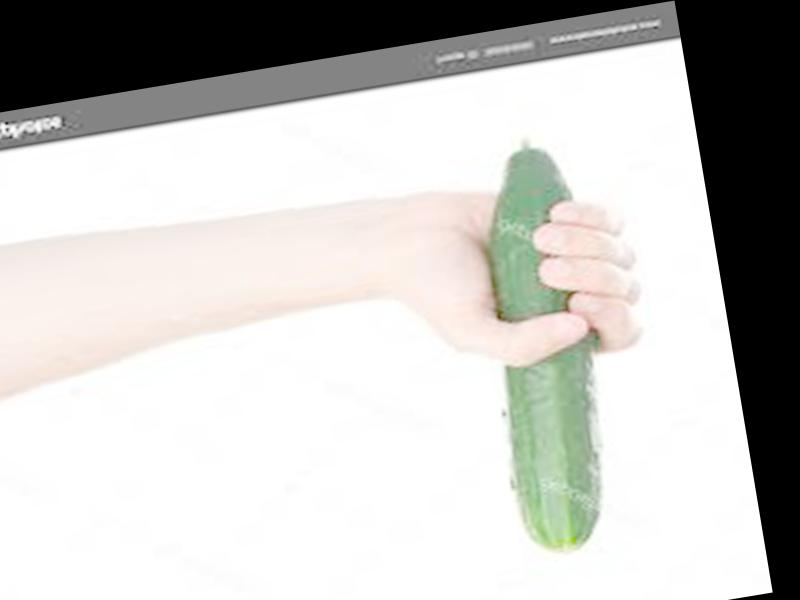Cucumber: (459, 134, 630, 558)
